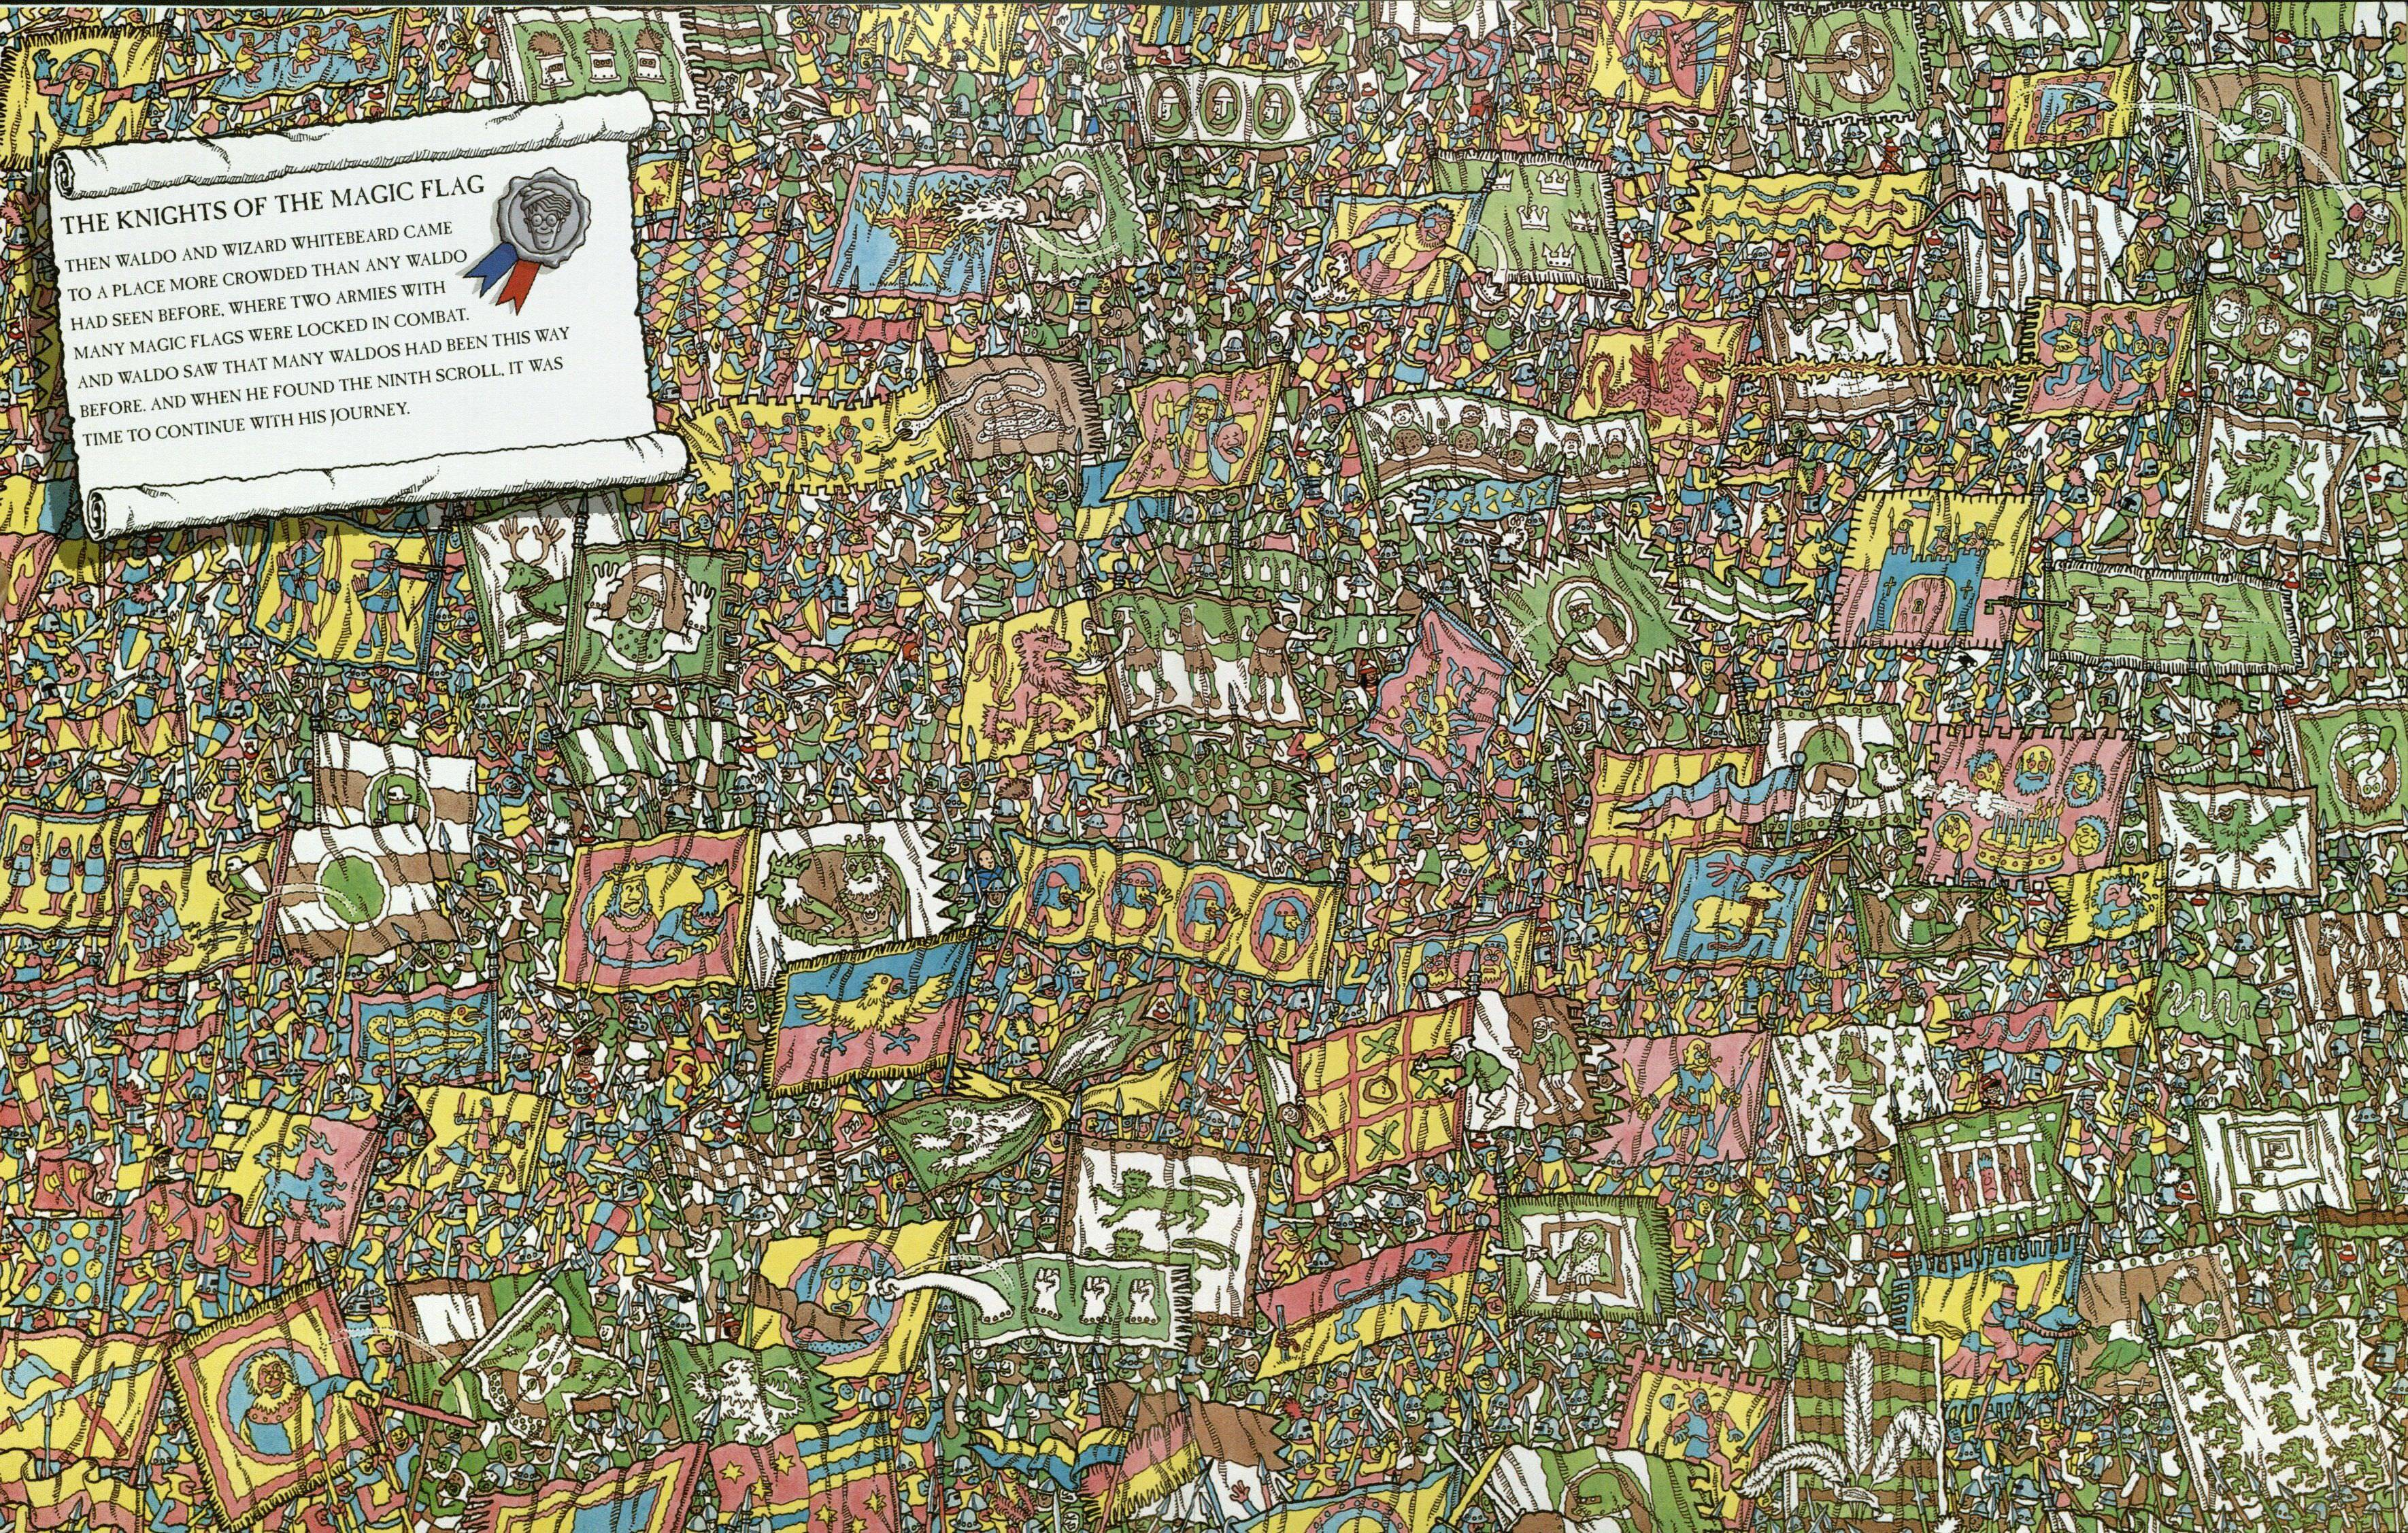Waldo: (569, 1033, 602, 1084)
